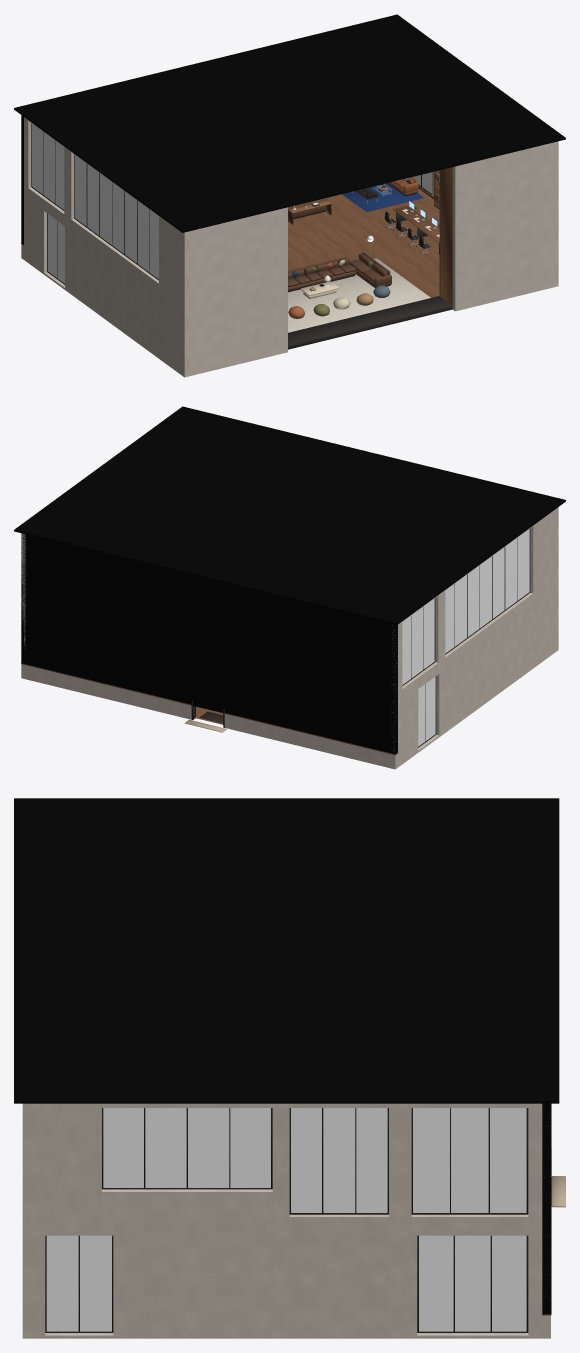
The model's file is ground.glb.
3 renders of one model, top to bottom at view 1: azimuth 30°, elevation 25°; view 2: azimuth 150°, elevation 25°; view 3: azimuth 270°, elevation 25°, orthographic. The views are drawn at different scales.
Parts seen in each view (by area): view 1: hq_ground, hq_caster, hq_windows; view 2: hq_caster, hq_ground, hq_windows; view 3: hq_caster, hq_ground, hq_windows.
Part boxes in pixels (left/top/right/bottom): hq_ground: left=21, top=117, right=558, bottom=377; hq_caster: left=14, top=14, right=565, bottom=244; hq_windows: left=32, top=123, right=431, bottom=283; hq_caster: left=14, top=406, right=565, bottom=754; hq_ground: left=21, top=507, right=558, bottom=769; hq_windows: left=402, top=529, right=529, bottom=746; hq_caster: left=14, top=798, right=559, bottom=1314; hq_ground: left=22, top=1103, right=565, bottom=1338; hq_windows: left=46, top=1108, right=526, bottom=1331.
Bounding box in the file's own units: 25.2 × 9.55 × 19.43.
Materials: 17 (6 with a texture image).
